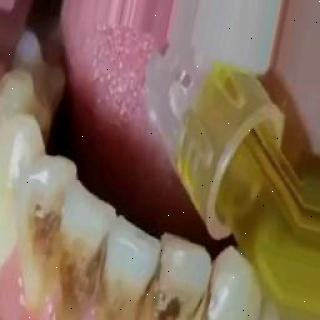stains: (51, 226, 108, 317), (90, 248, 154, 320), (26, 193, 74, 271), (151, 272, 207, 320), (195, 271, 236, 320)
